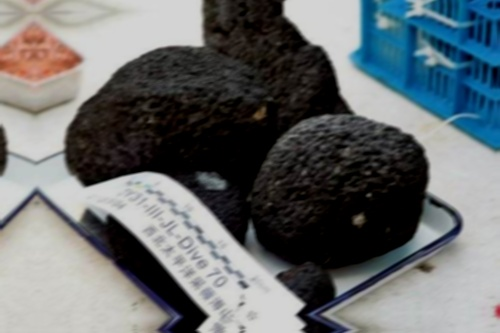halobolite: (39, 37, 254, 185), (248, 112, 434, 263), (179, 1, 349, 158), (249, 271, 328, 330)
